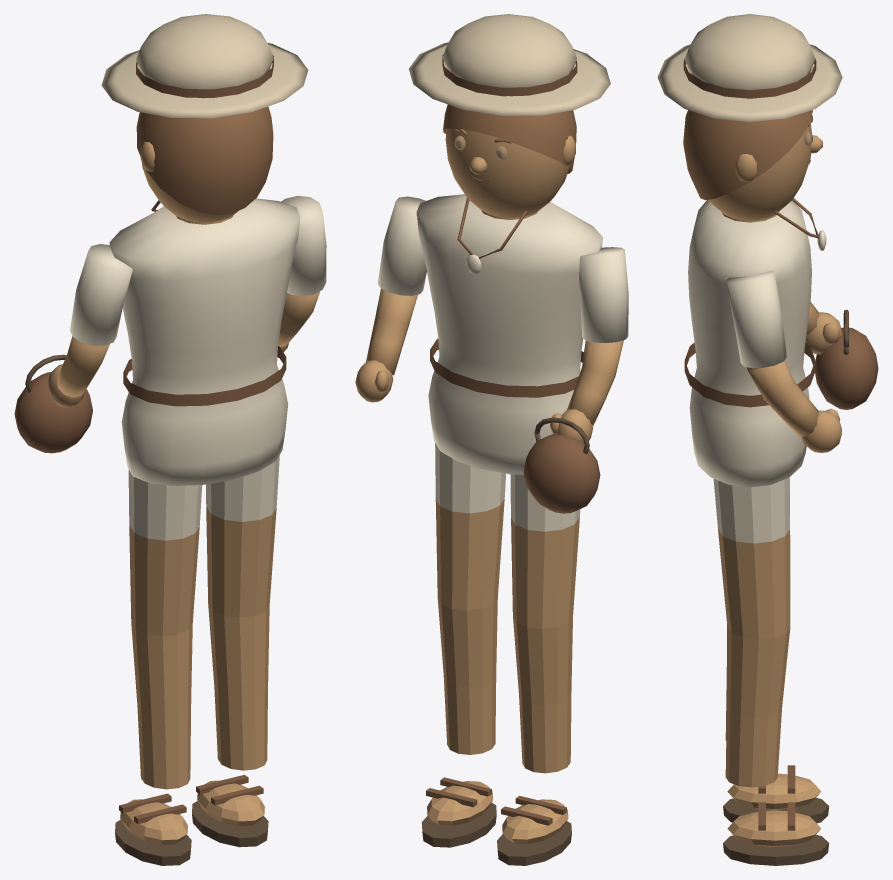
Rendered from SM_NPC_CONCHA.glb.
3 views of the same model, side by side, from view 1: azimuth 30°, elevation 25°; view 2: azimuth 150°, elevation 25°; view 3: azimuth 270°, elevation 25° (orthographic). The views are drawn at different scales.
Parts seen in each view (by area): view 1: SM_NPC_CONCHA_BODY, SM_NPC_CONCHA_HAIR, SM_NPC_CONCHA_LEG_L, SM_NPC_CONCHA_LEG_R, SM_NPC_CONCHA_ARM_L, SM_NPC_CONCHA_ARM_R, SM_NPC_CONCHA_HEAD; view 2: SM_NPC_CONCHA_BODY, SM_NPC_CONCHA_LEG_R, SM_NPC_CONCHA_LEG_L, SM_NPC_CONCHA_HAIR, SM_NPC_CONCHA_ARM_L, SM_NPC_CONCHA_HEAD, SM_NPC_CONCHA_ARM_R; view 3: SM_NPC_CONCHA_BODY, SM_NPC_CONCHA_LEG_R, SM_NPC_CONCHA_HAIR, SM_NPC_CONCHA_ARM_R, SM_NPC_CONCHA_ARM_L, SM_NPC_CONCHA_HEAD, SM_NPC_CONCHA_LEG_L.
Boxes of the visible parts, <box> form: SM_NPC_CONCHA_BODY: <box>109,198,300,485</box>; SM_NPC_CONCHA_HAIR: <box>101,14,308,215</box>; SM_NPC_CONCHA_LEG_L: <box>115,469,202,865</box>; SM_NPC_CONCHA_LEG_R: <box>192,455,279,847</box>; SM_NPC_CONCHA_ARM_L: <box>14,244,132,453</box>; SM_NPC_CONCHA_ARM_R: <box>278,195,326,352</box>; SM_NPC_CONCHA_HEAD: <box>140,125,272,222</box>; SM_NPC_CONCHA_BODY: <box>416,194,602,474</box>; SM_NPC_CONCHA_LEG_R: <box>421,443,505,847</box>; SM_NPC_CONCHA_LEG_L: <box>497,474,580,865</box>; SM_NPC_CONCHA_HAIR: <box>409,14,610,173</box>; SM_NPC_CONCHA_ARM_L: <box>523,247,628,513</box>; SM_NPC_CONCHA_HEAD: <box>445,128,575,217</box>; SM_NPC_CONCHA_ARM_R: <box>355,196,426,402</box>; SM_NPC_CONCHA_BODY: <box>684,198,826,487</box>; SM_NPC_CONCHA_LEG_R: <box>713,477,829,865</box>; SM_NPC_CONCHA_HAIR: <box>657,14,842,200</box>; SM_NPC_CONCHA_ARM_R: <box>725,270,841,452</box>; SM_NPC_CONCHA_ARM_L: <box>805,301,878,409</box>; SM_NPC_CONCHA_HEAD: <box>708,121,822,220</box>; SM_NPC_CONCHA_LEG_L: <box>723,479,829,823</box>.
Size of the model in its own units: 0.6321 by 1.89 by 0.4666.
